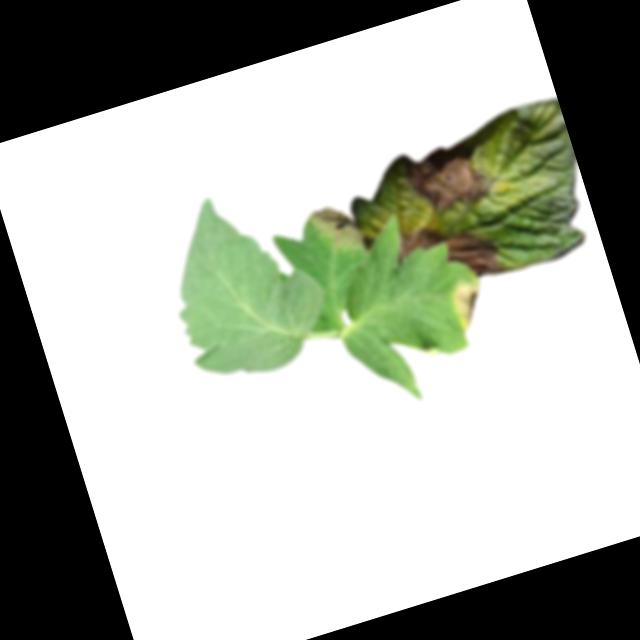Late_blight: (400, 132, 500, 219), (304, 194, 366, 264), (442, 222, 509, 283), (447, 278, 493, 332), (392, 221, 445, 260)
